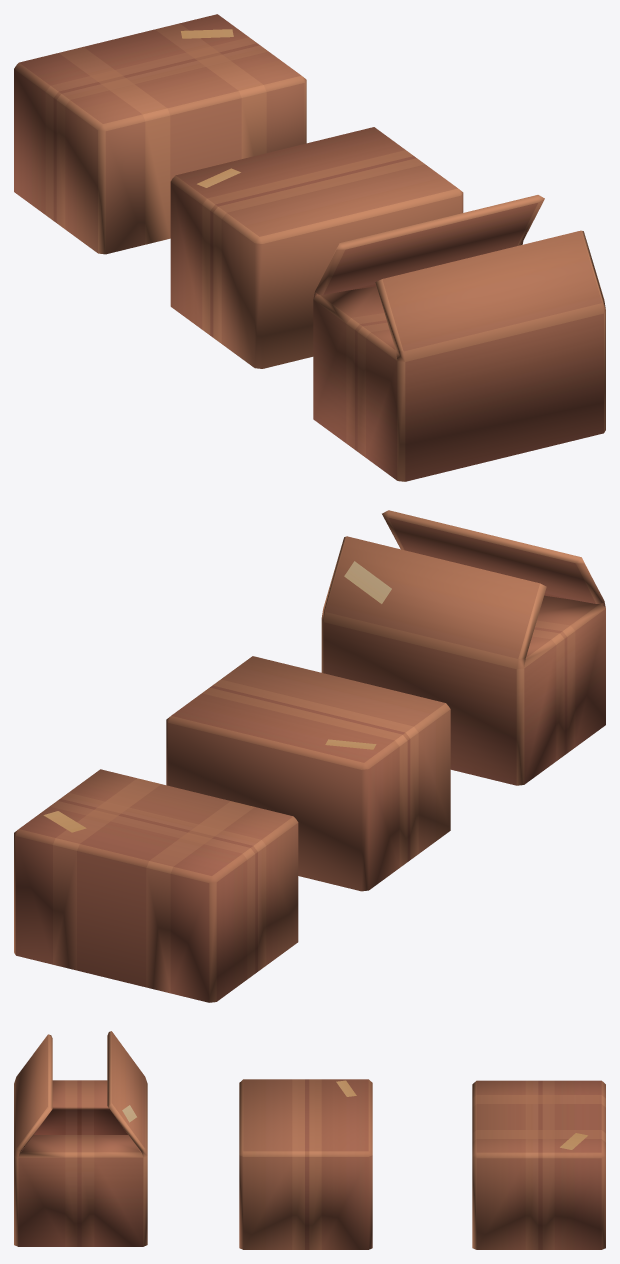
File: paper box.fbx
The picture shows the model from 3 angles, top to bottom: view 1: azimuth 30°, elevation 25°; view 2: azimuth 150°, elevation 25°; view 3: azimuth 270°, elevation 25°; orthographic projection. The views are drawn at different scales.
Parts seen in each view (by area): view 1: Box__7_, Box__9_, Box__5_; view 2: Box__7_, Box__9_, Box__5_; view 3: Box__7_, Box__5_, Box__9_.
Boxes of the visible parts, x1=… form: Box__7_: x1=313, y1=195, x2=605, y2=481; Box__9_: x1=14, y1=14, x2=306, y2=254; Box__5_: x1=170, y1=127, x2=463, y2=368; Box__7_: x1=321, y1=510, x2=605, y2=785; Box__9_: x1=14, y1=769, x2=298, y2=1002; Box__5_: x1=166, y1=656, x2=450, y2=891; Box__7_: x1=14, y1=1031, x2=147, y2=1246; Box__5_: x1=239, y1=1079, x2=372, y2=1249; Box__9_: x1=472, y1=1080, x2=605, y2=1249.
Size of the model in its own units: 212 by 178 by 674.
Materials: 1 (1 with a texture image).
